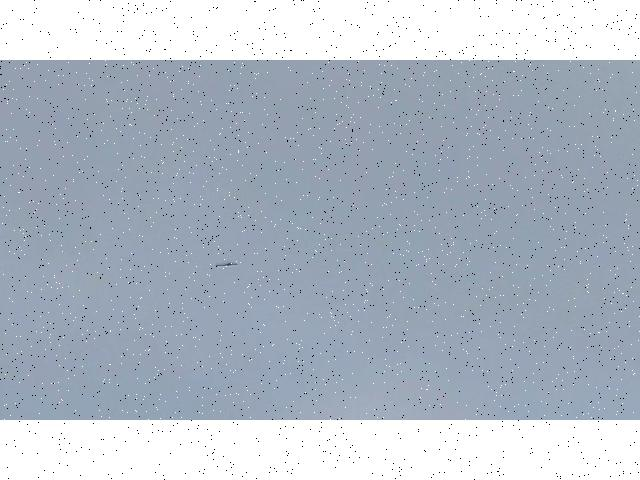Anti-Drone: (215, 262, 239, 268)
